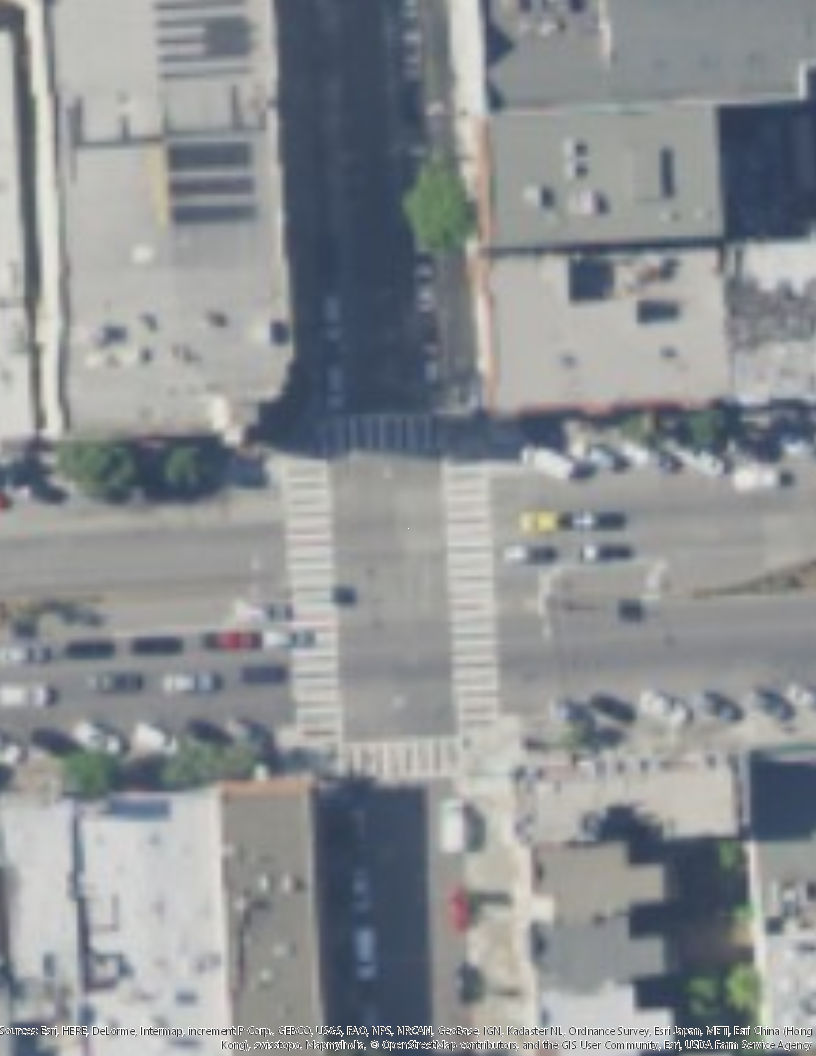zebracross: (432, 457, 502, 728), (279, 465, 342, 745), (331, 731, 461, 788), (330, 414, 440, 457)
